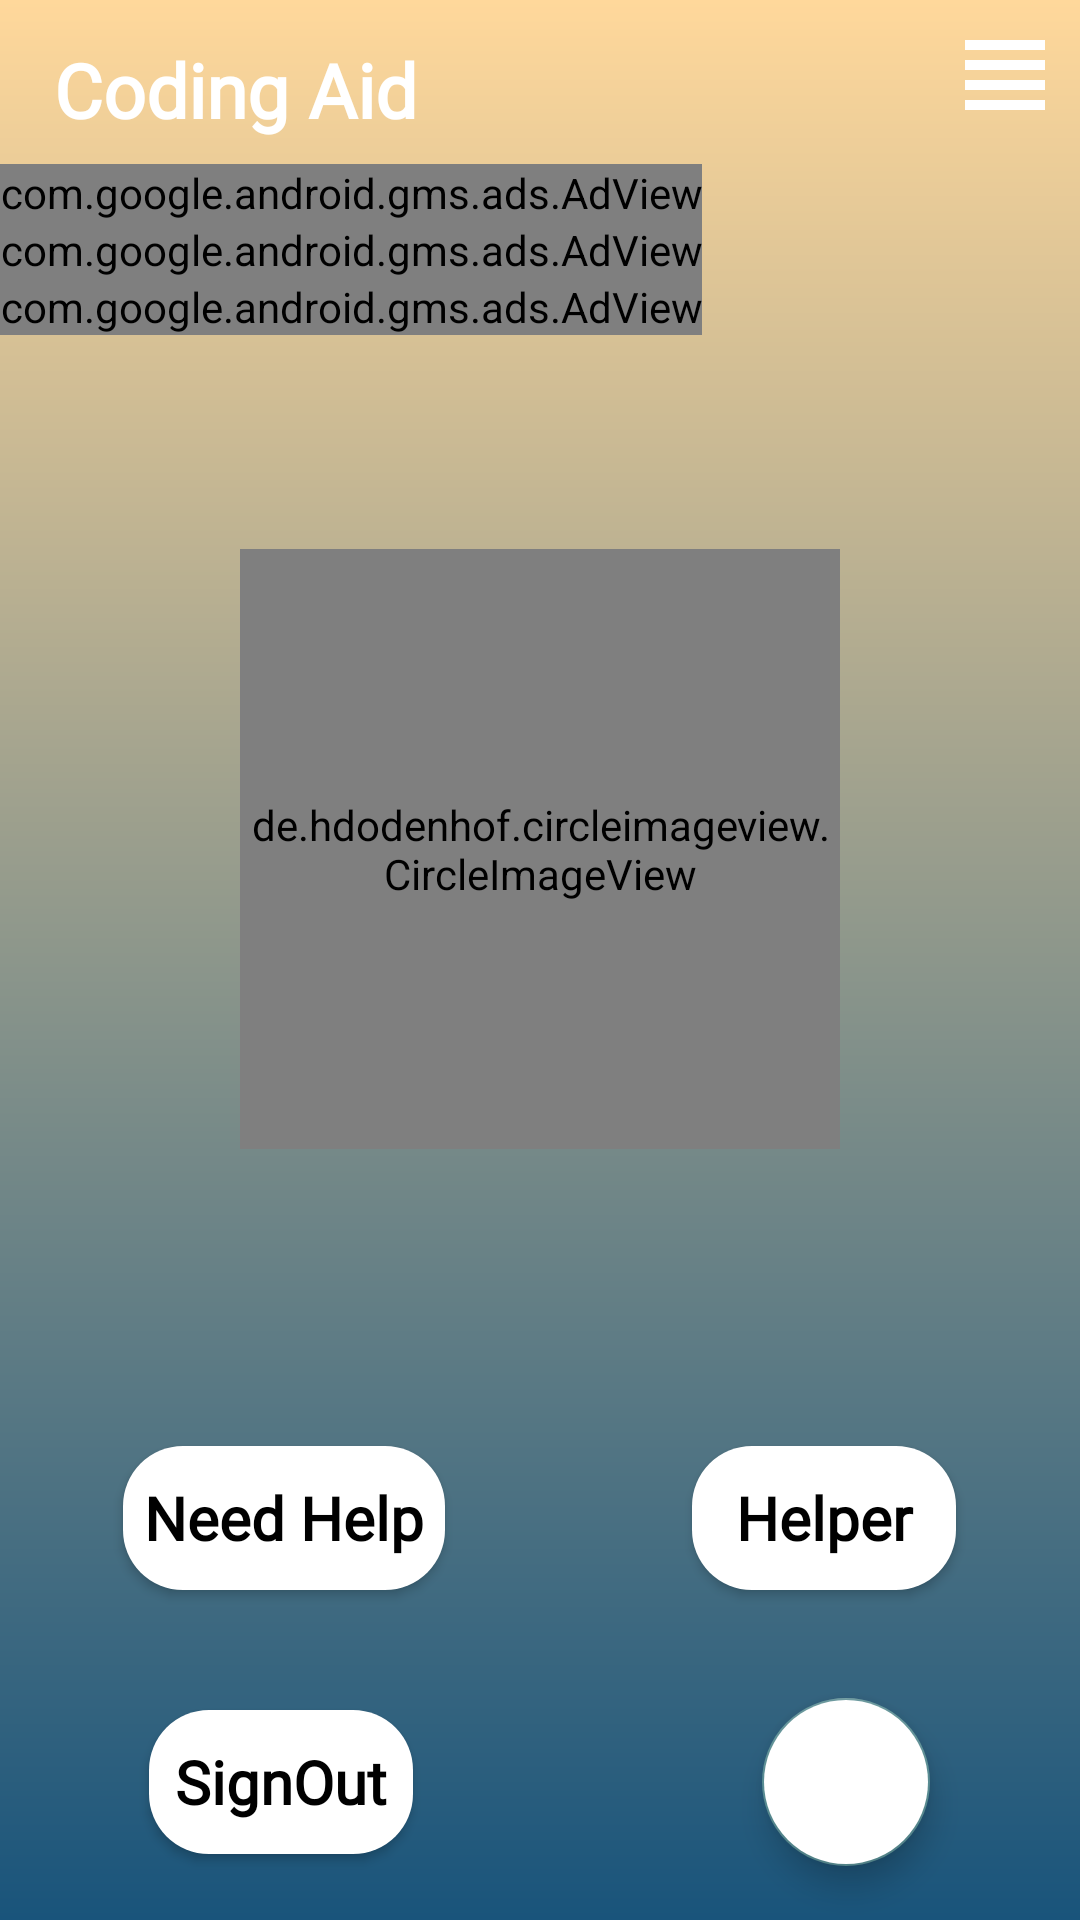

Screen size 1080×1920. Icon name, then its box in pixels as (x1, y1, x2, y2):
four line: (965, 40, 1045, 110)
